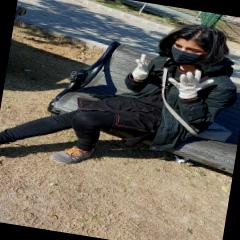gloved: (166, 66, 215, 102), (132, 54, 152, 80)
